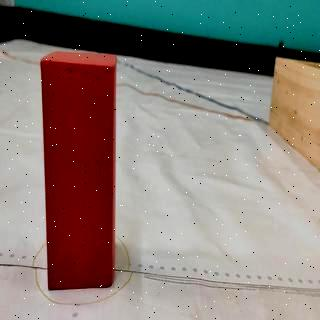redbox: (41, 49, 117, 290)
